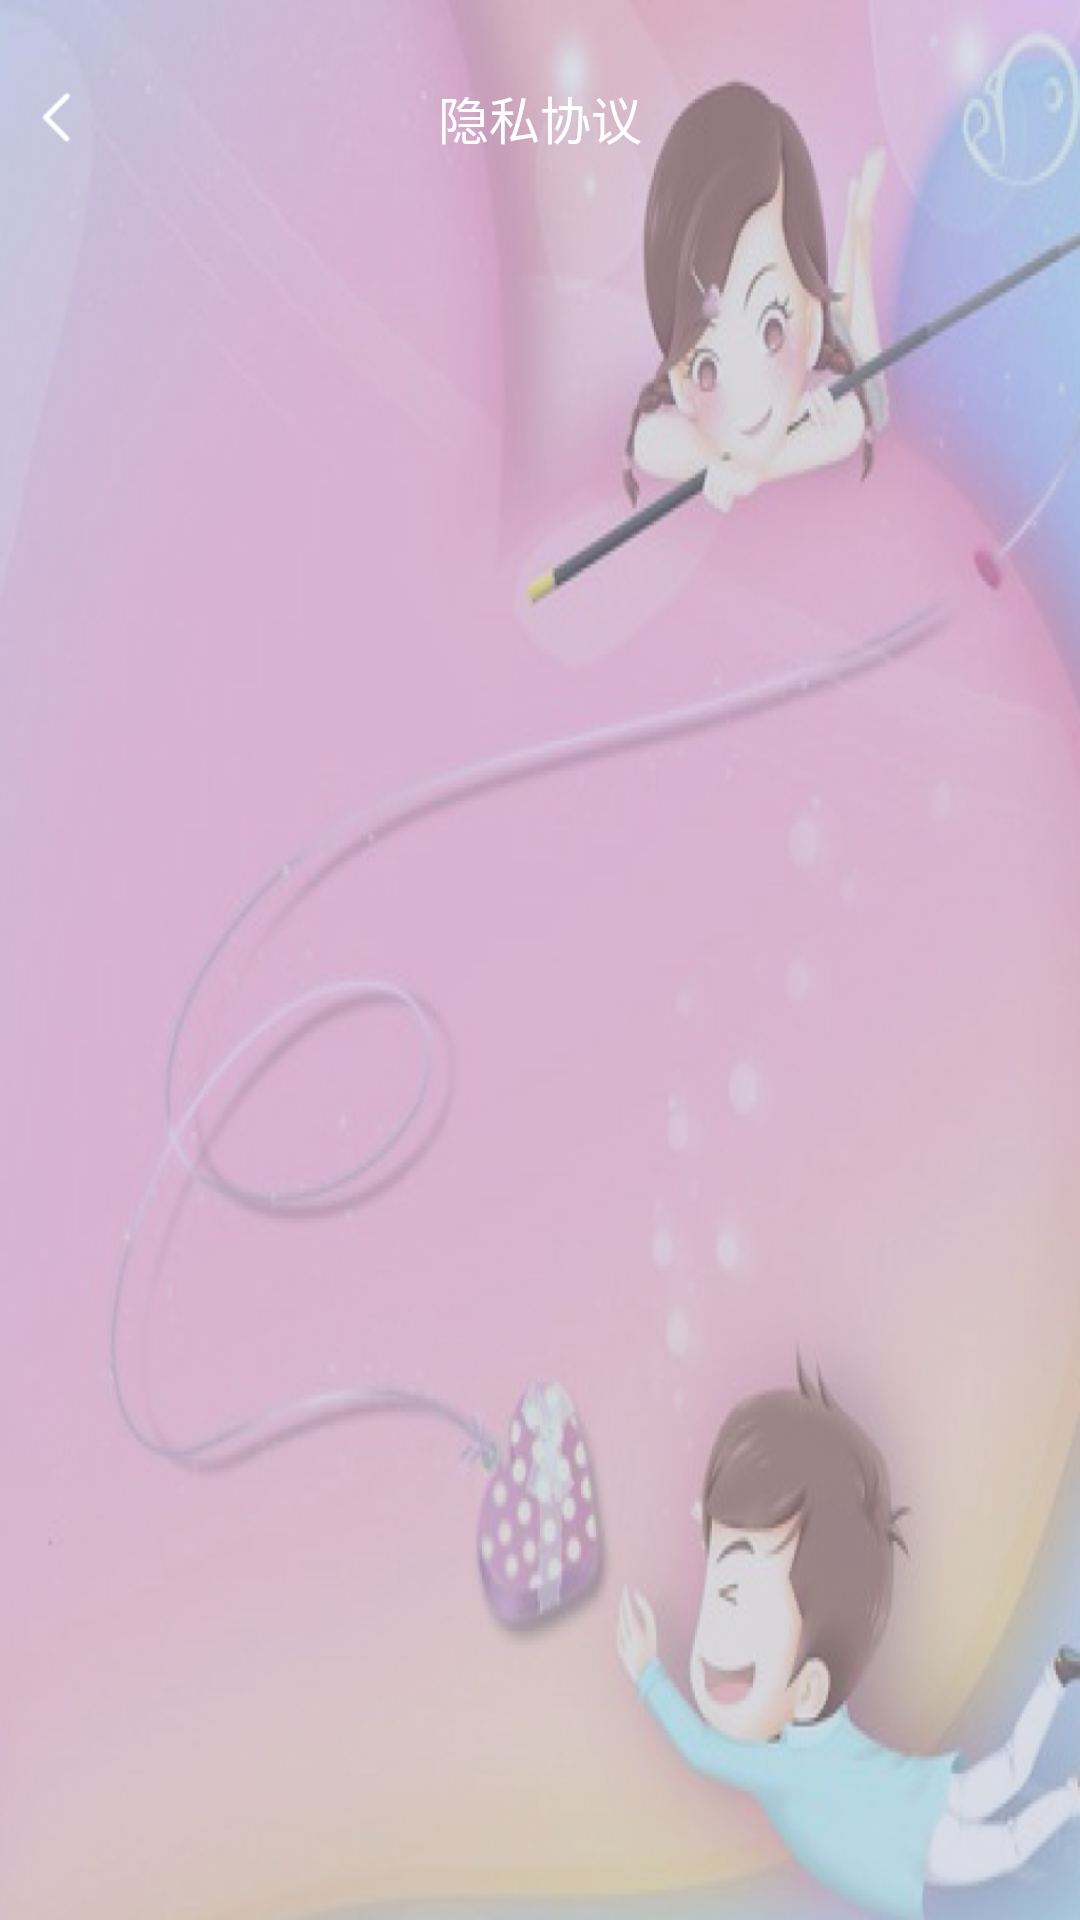

Where icons sit on this 1080w x 1920h app screen, as rect(x1, y1, x2, y2):
back: rect(43, 93, 70, 142)
